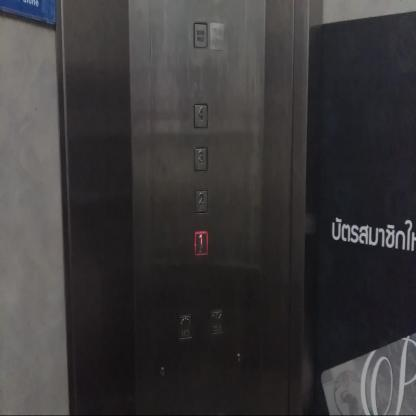1: (192, 227, 210, 259)
2: (192, 185, 210, 217)
3: (192, 142, 210, 174)
4: (192, 100, 210, 132)
close: (208, 305, 226, 337)
open: (176, 310, 194, 342)
text: (190, 17, 210, 52), (208, 18, 227, 53)
